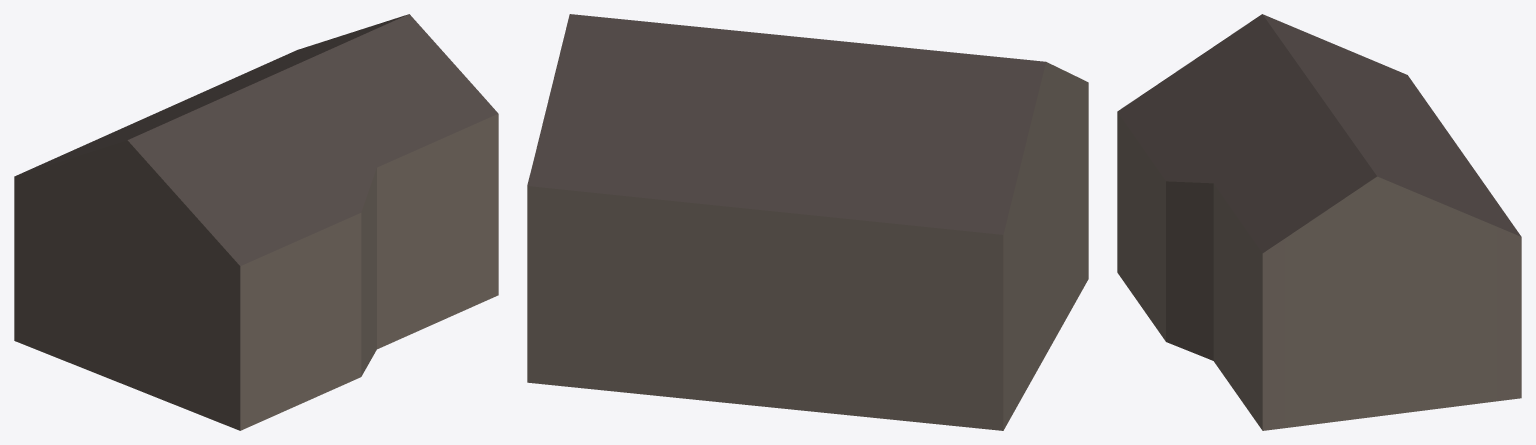
The picture shows the model from 3 angles, left to right: view 1: azimuth 30°, elevation 25°; view 2: azimuth 150°, elevation 25°; view 3: azimuth 270°, elevation 25°; orthographic projection. The views are drawn at different scales.
Parts seen in each view (by area): view 1: HP-w1198840834; view 2: HP-w1198840834; view 3: HP-w1198840834.
Part boxes in pixels (x1,y1,x2,y2): HP-w1198840834: (14,14,498,430); HP-w1198840834: (527,14,1088,430); HP-w1198840834: (1117,14,1521,430).
Size of the model in its own units: 15.65 by 8.97 by 13.69.
